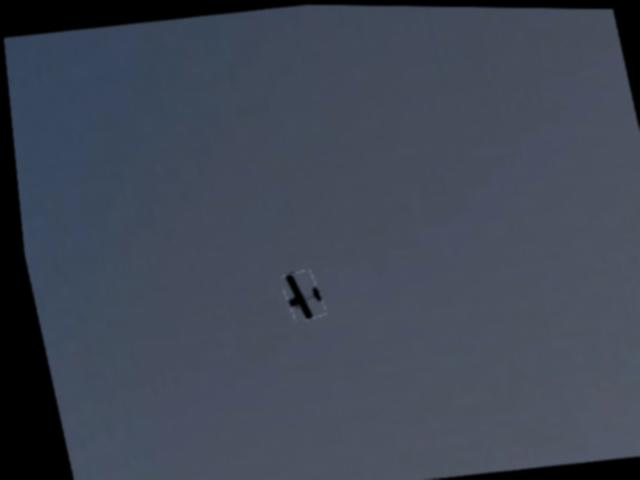insansiz-hava-araci: (274, 269, 320, 321)
